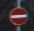No entry: (6, 6, 29, 26)
